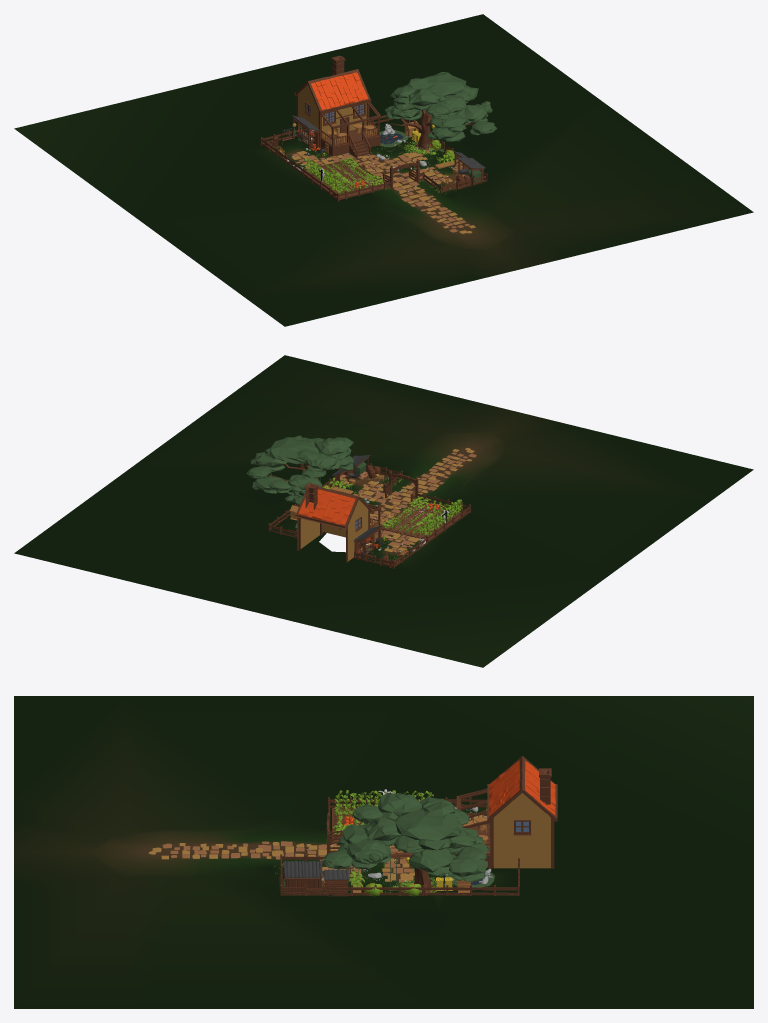
Rendered from garden_v003-transformed.glb.
3 views of the same model, one above another, from view 1: azimuth 30°, elevation 25°; view 2: azimuth 150°, elevation 25°; view 3: azimuth 270°, elevation 25° (orthographic). The views are drawn at different scales.
Visible parts, largest first — view 1: garden; view 2: garden; view 3: garden.
Boxes of the visible parts, x1,y1,x2,y2 form: garden: [14, 14, 753, 326]; garden: [14, 355, 753, 667]; garden: [14, 696, 753, 1008].
Size of what is drawn, in the model's own units: 17.38 by 2.52 by 17.38.
